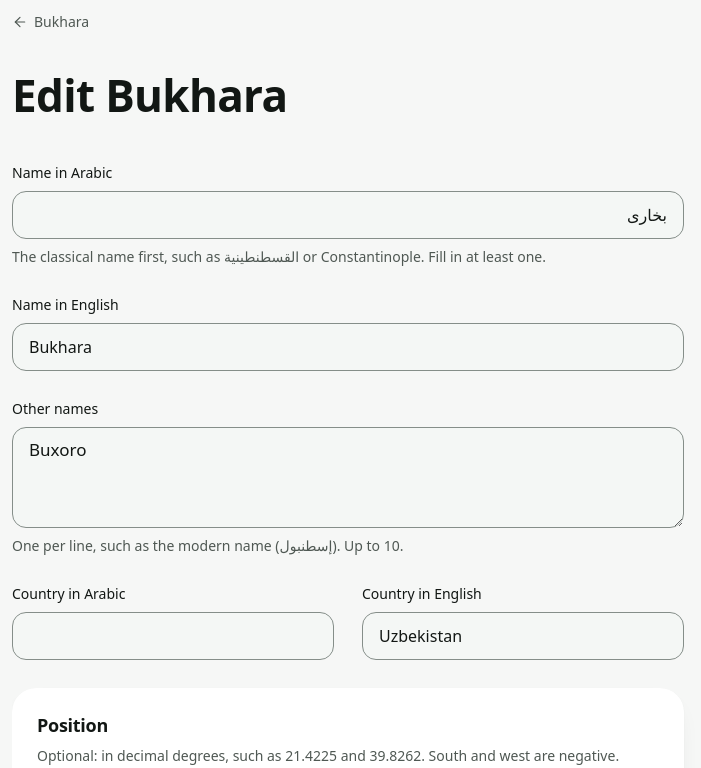
Scenario: PlaceFormPage › explains a change made on another device, and loads the latest version
Type "x" into the field labelled "Country in Arabic" at (173, 636), box [12, 612, 334, 660]
(page scrolled)
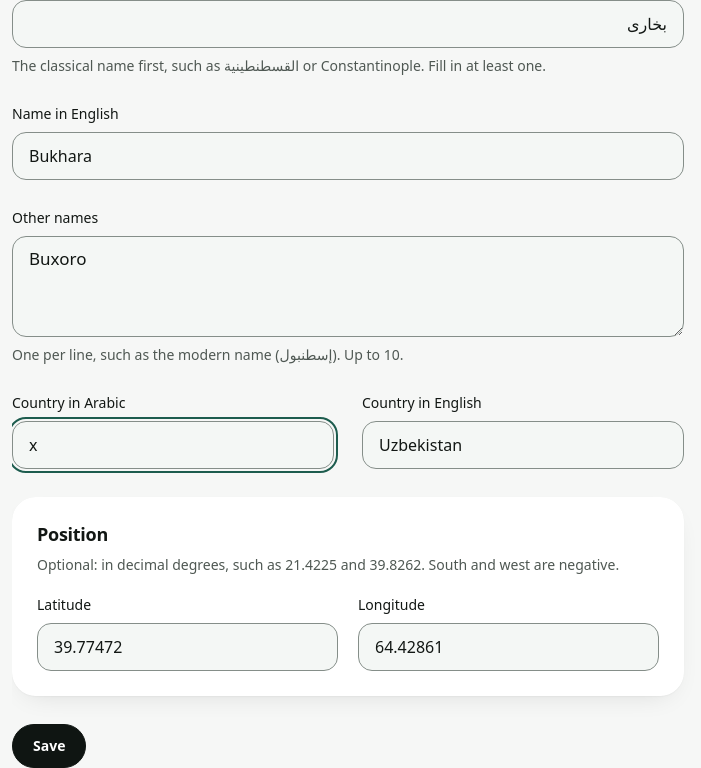
Click the button "Save" at (49, 746), box [12, 724, 86, 767]
(page scrolled)
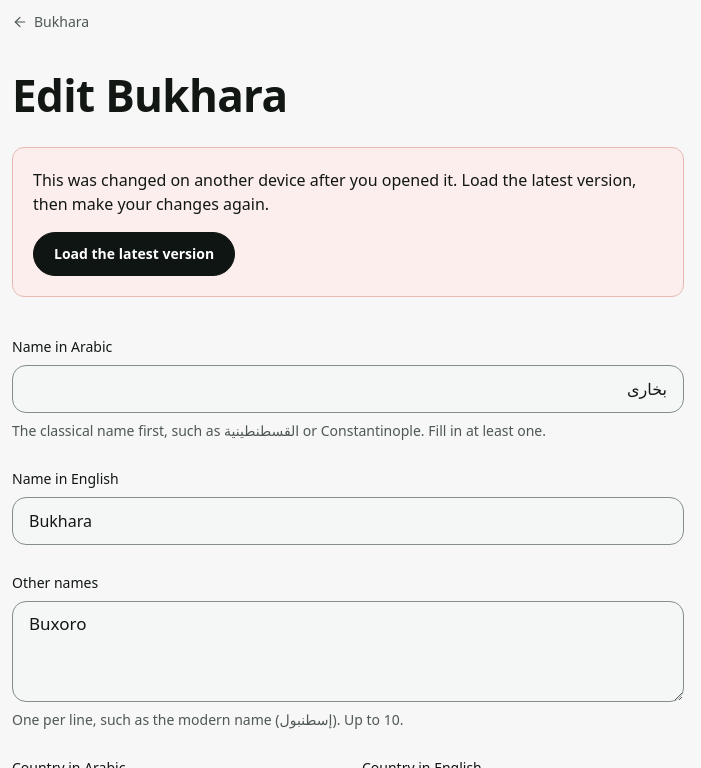
Check: the text "changed on another device" is shown, box [33, 169, 636, 215]
Click the button "Load the latest version" at (134, 254), box [33, 232, 235, 276]
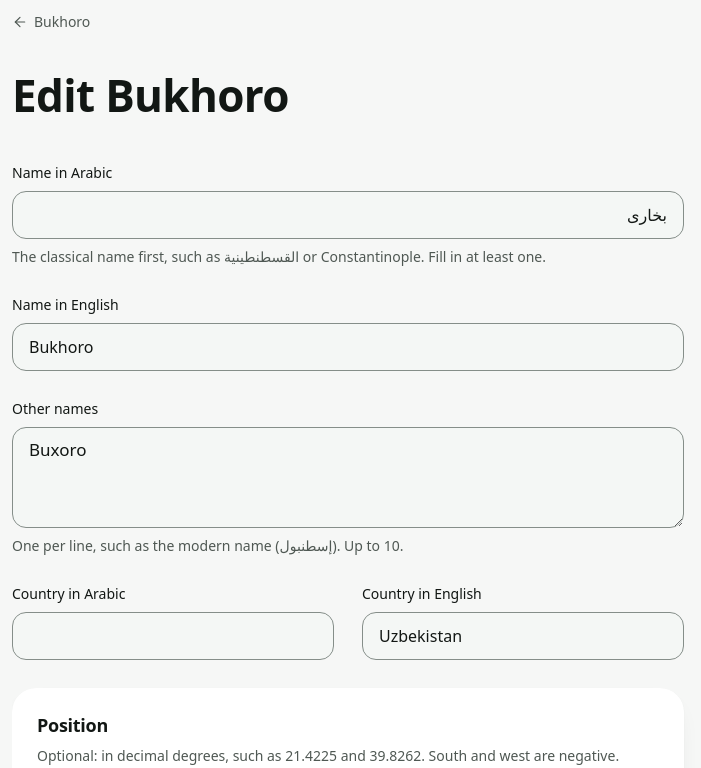
Check: the field showing "Bukhoro" is shown, box [12, 323, 684, 371]
Check: the field labelled "Country in Arabic" is empty, box [12, 612, 334, 660]
Check: the text "changed on another device" is gone
